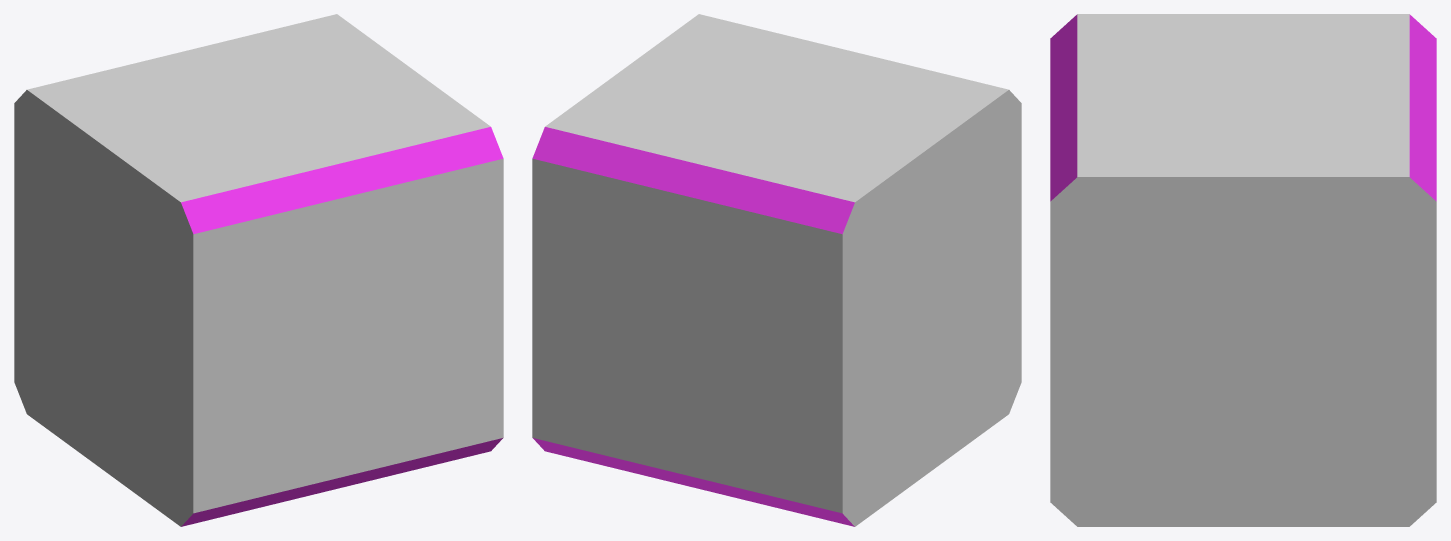
Rendered from Platform.fbx.
3 views of the same model, side by side, from view 1: azimuth 30°, elevation 25°; view 2: azimuth 150°, elevation 25°; view 3: azimuth 270°, elevation 25° (orthographic). The views are drawn at different scales.
Parts seen in each view (by area): view 1: Cube; view 2: Cube; view 3: Cube.
Part boxes in pixels (x1=…): Cube: x1=14, y1=14, x2=503, y2=526; Cube: x1=532, y1=14, x2=1021, y2=526; Cube: x1=1050, y1=14, x2=1436, y2=526.
Size of the model in its own units: 200 by 200 by 200.
